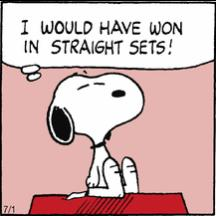snoopy: (46, 72, 146, 200)
